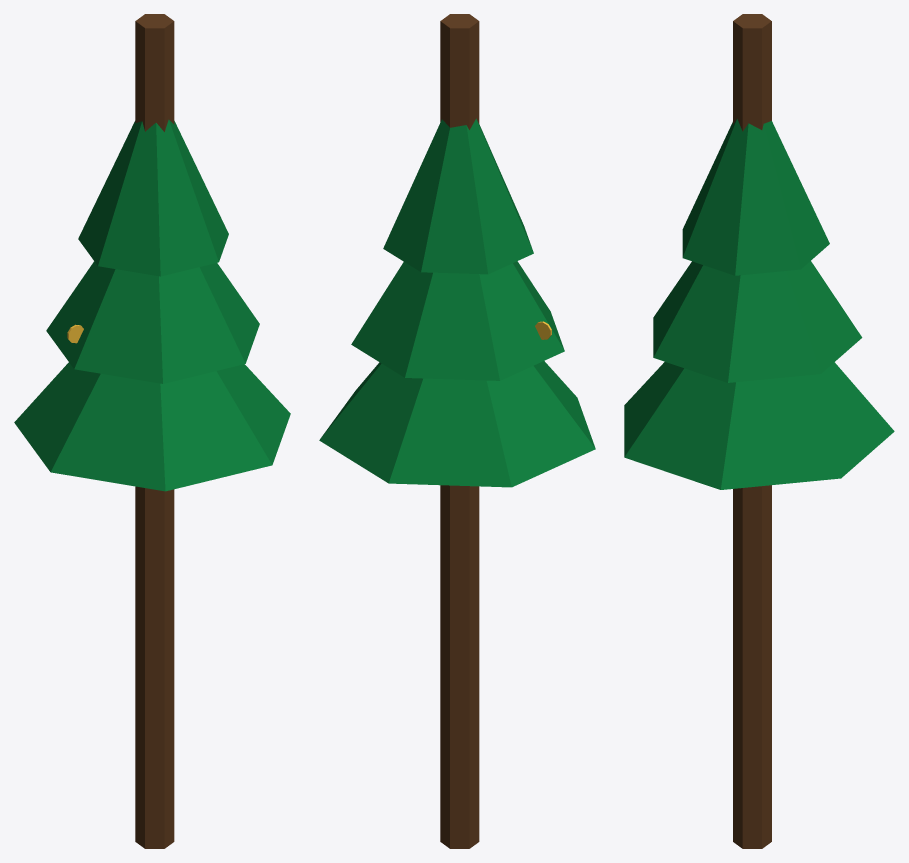
Rendered from Prop_OR_LedgerTree_11.glb.
The picture shows the model from 3 angles, left to right: view 1: azimuth 30°, elevation 25°; view 2: azimuth 150°, elevation 25°; view 3: azimuth 270°, elevation 25°; orthographic projection.
Visible parts, largest first — view 1: Prop_OR_LedgerTree_11; view 2: Prop_OR_LedgerTree_11; view 3: Prop_OR_LedgerTree_11.
Part boxes in pixels (x1,y1,x2,y2): Prop_OR_LedgerTree_11: (14, 14, 290, 848); Prop_OR_LedgerTree_11: (319, 14, 595, 848); Prop_OR_LedgerTree_11: (624, 14, 894, 848).
Size of the model in its own units: 2.14 by 7 by 2.09.
